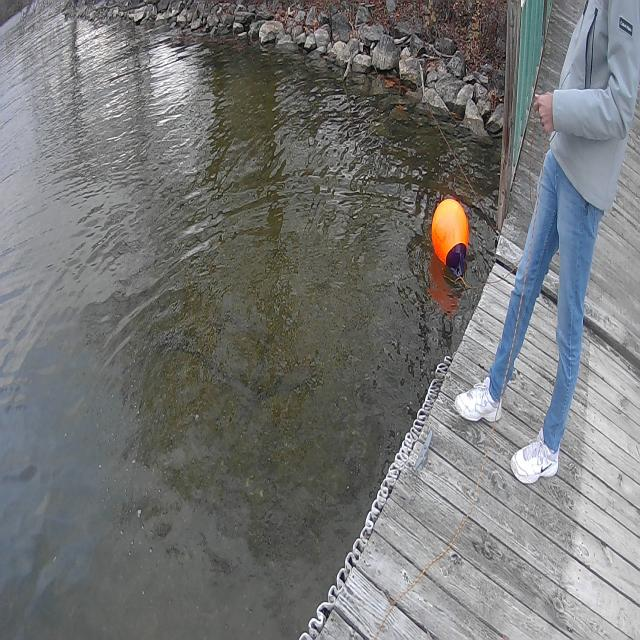Buoy: (427, 195, 473, 282)
